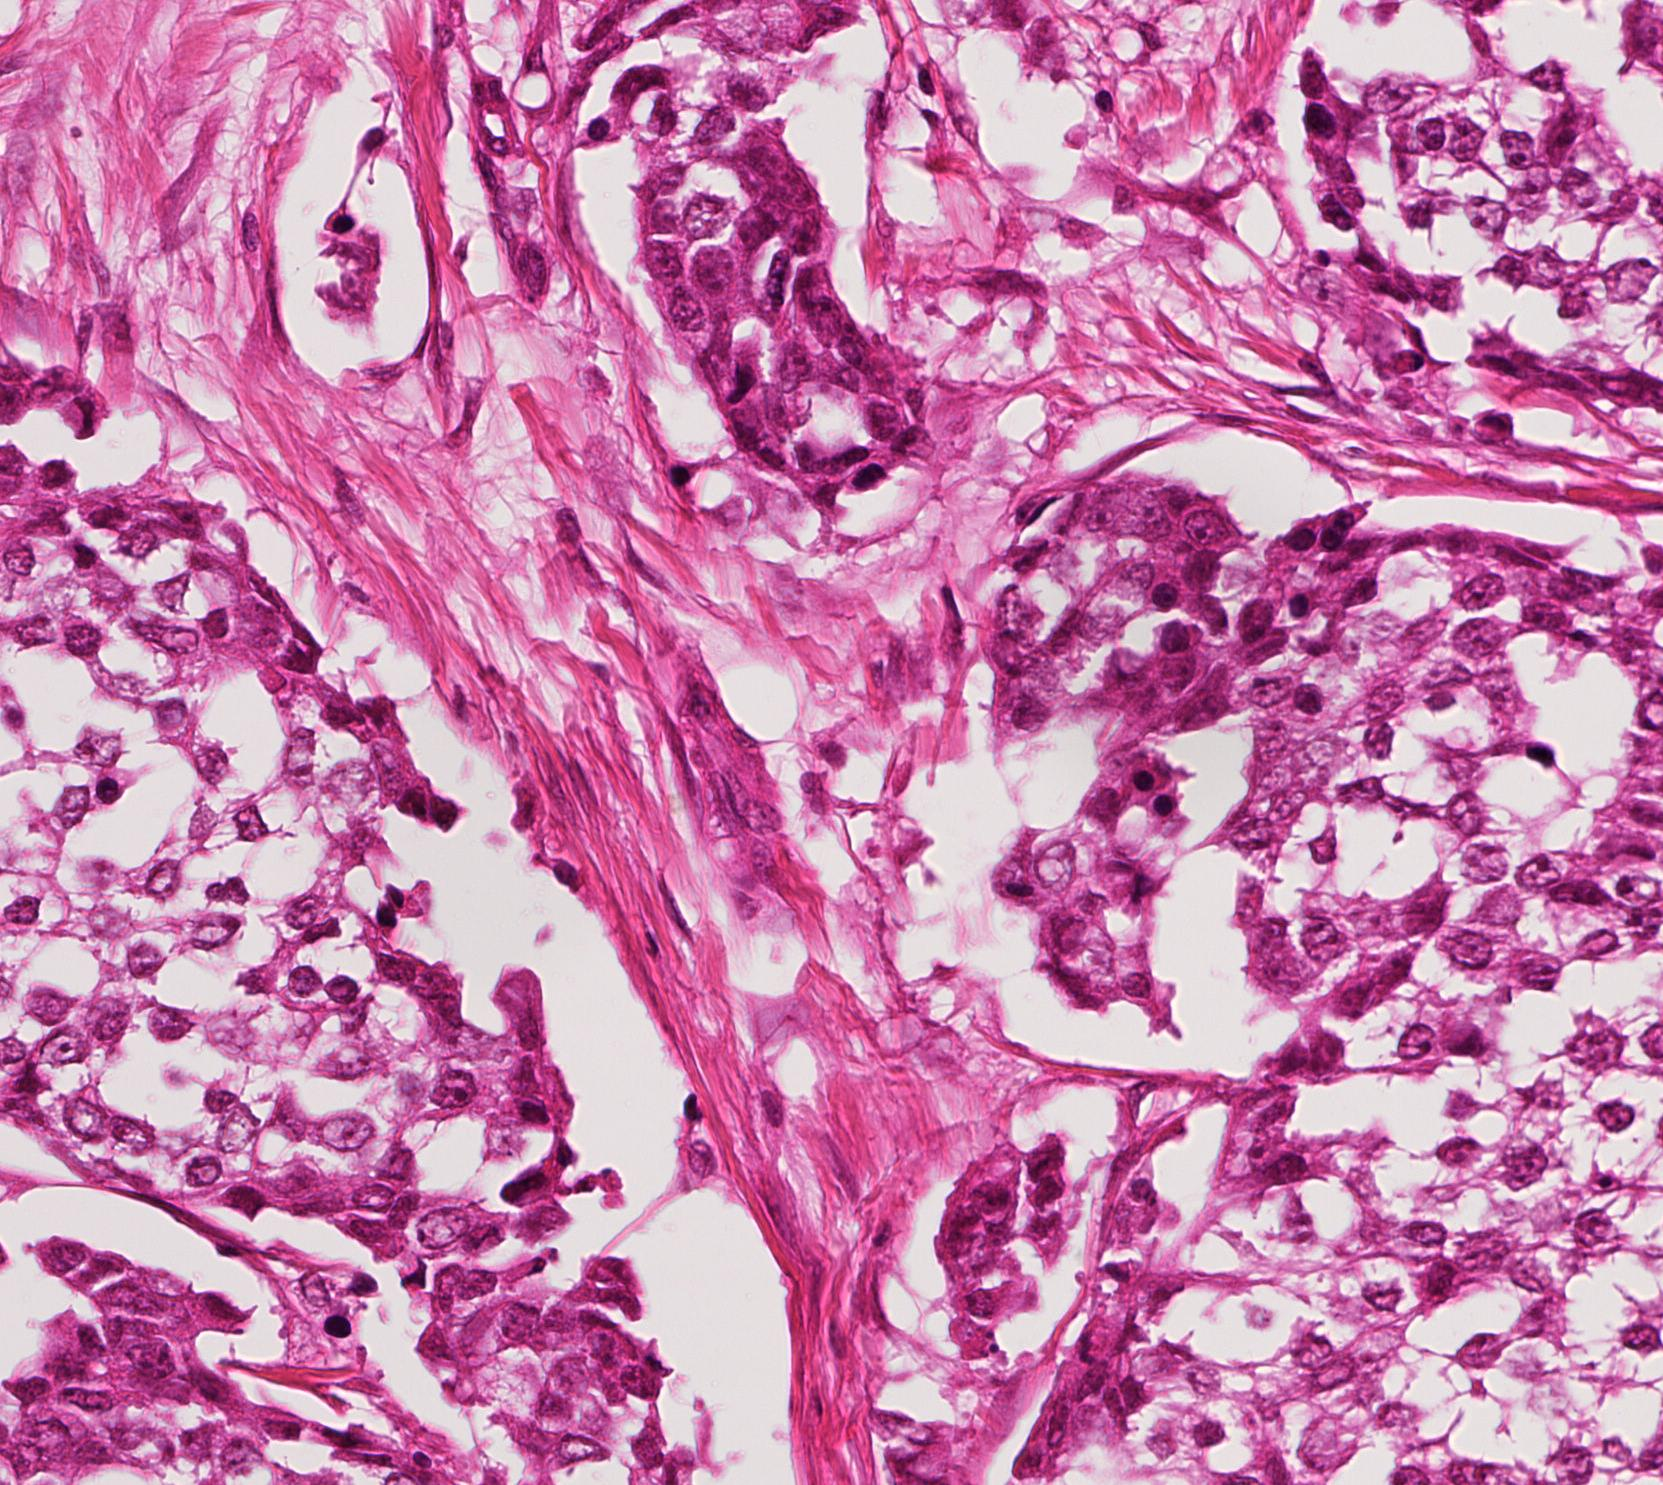mitosis: (60, 387, 120, 447)
